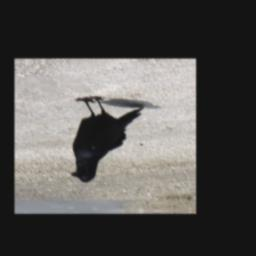Crow: (67, 94, 147, 184)
